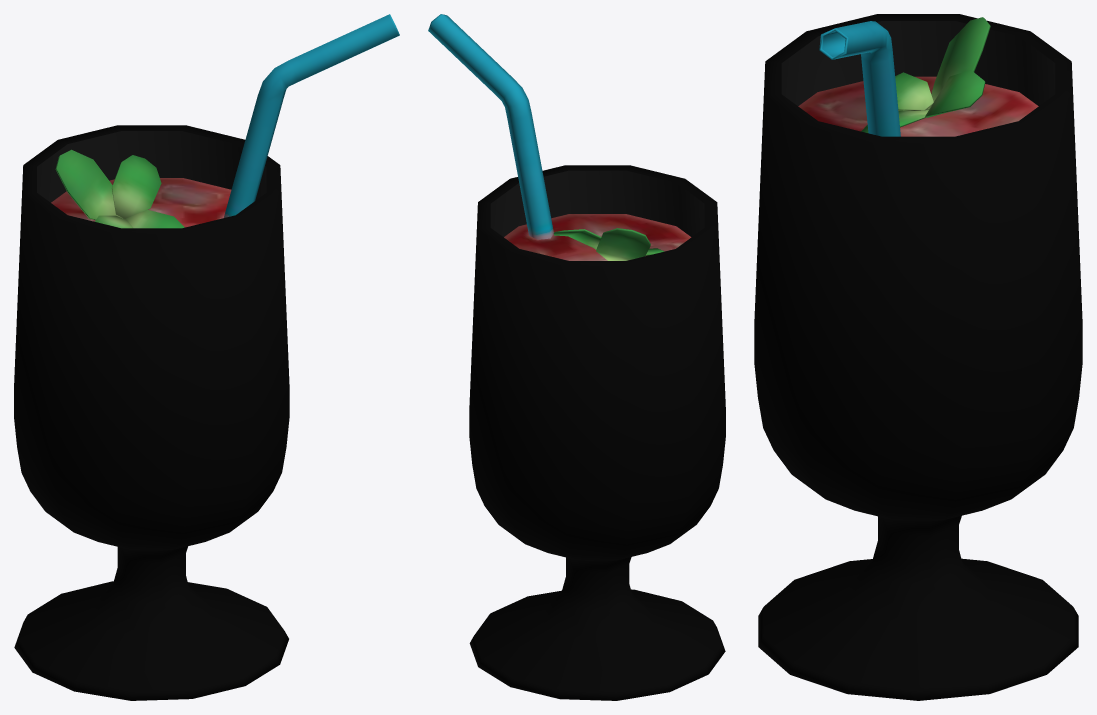
3 renders of one model, left to right at view 1: azimuth 30°, elevation 25°; view 2: azimuth 150°, elevation 25°; view 3: azimuth 270°, elevation 25°, orthographic. The views are drawn at different scales.
Size of the model in its own units: 3.46 by 6.04 by 2.49.
3 materials, 3 textured.
